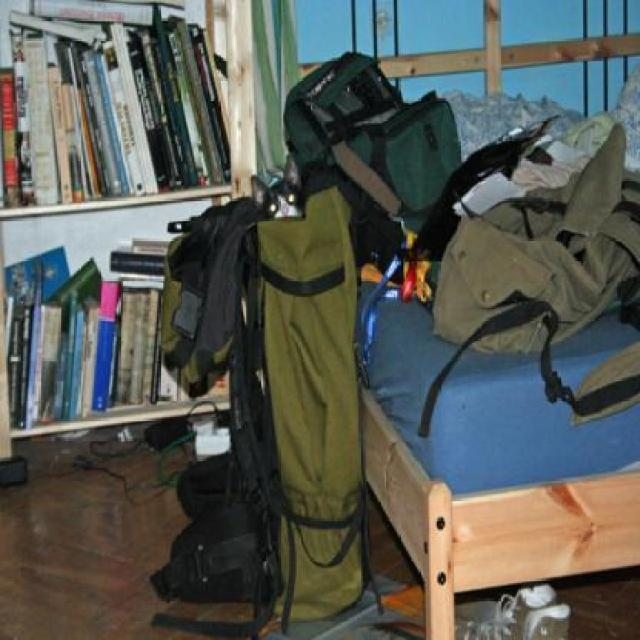backpack: (156, 183, 376, 634), (432, 139, 640, 363), (283, 52, 465, 234)
